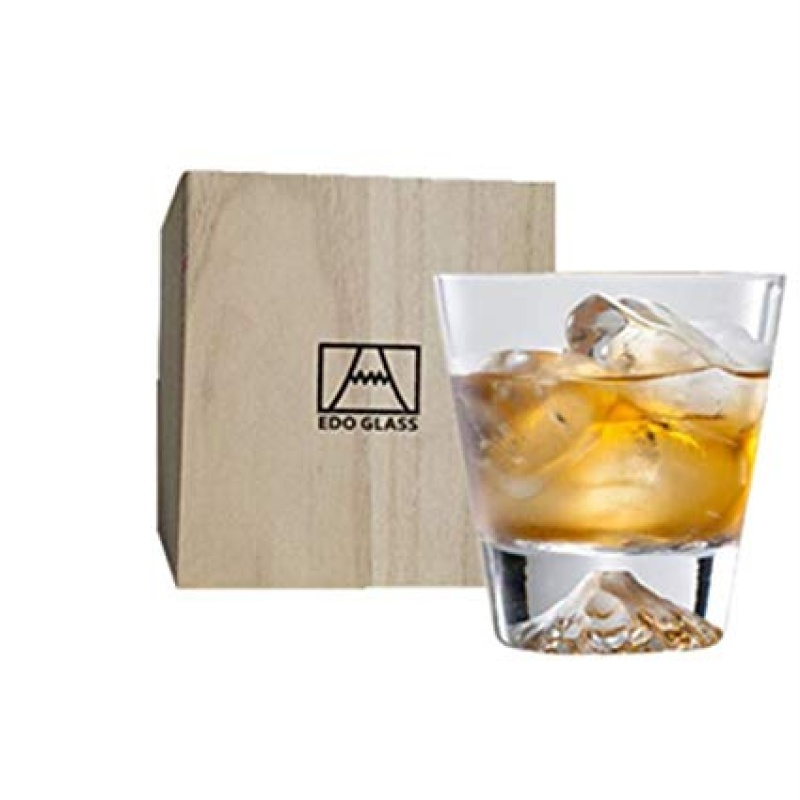whiskey: (427, 269, 772, 647)
